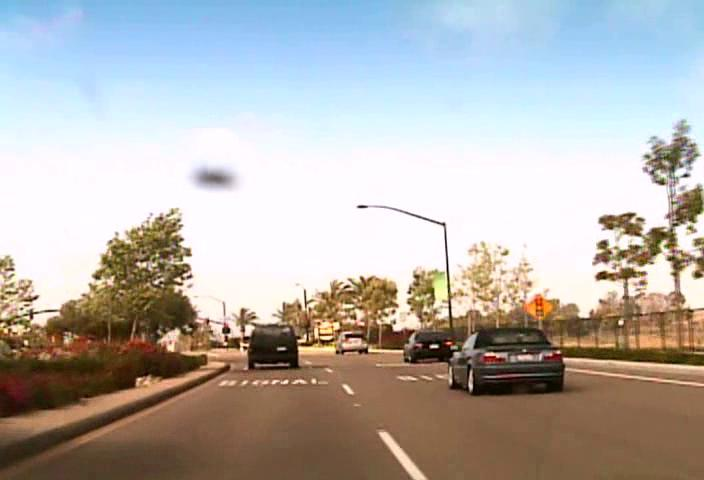signalAhead: (522, 293, 553, 322)
